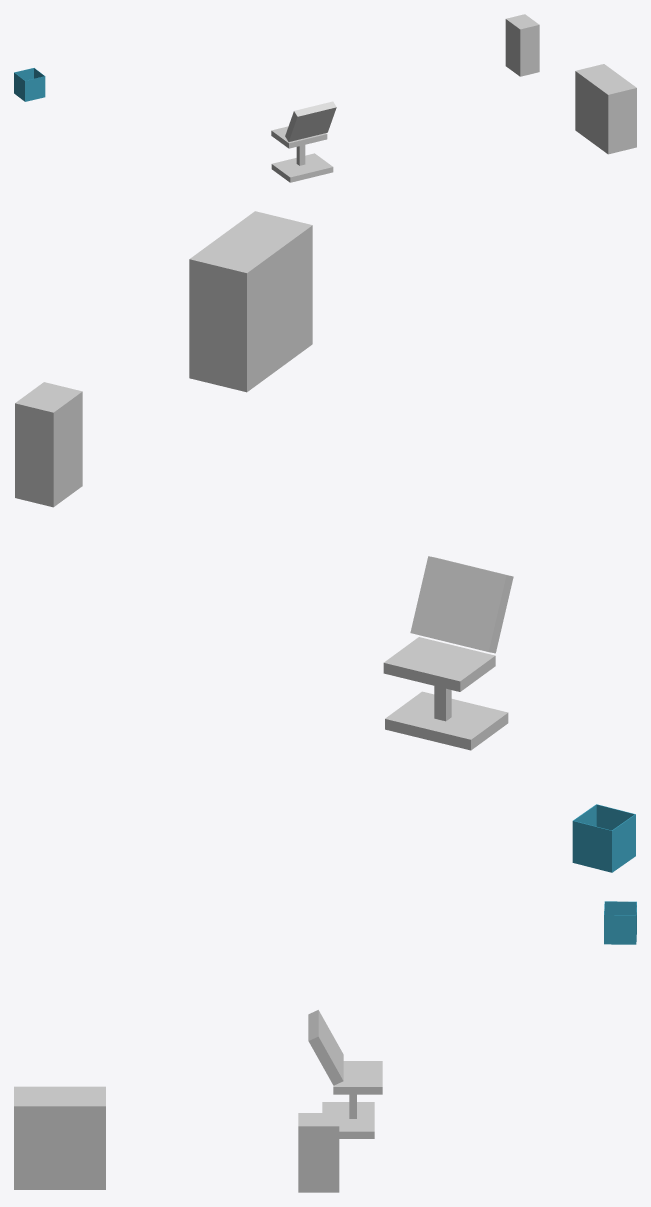
Rendered from bin_box.dae.
The picture shows the model from 3 angles, top to bottom: view 1: azimuth 30°, elevation 25°; view 2: azimuth 150°, elevation 25°; view 3: azimuth 270°, elevation 25°; orthographic projection. The views are drawn at different scales.
Visible parts, largest first — view 1: IKEAShelf_bb, BoxStand_bb, RollingChair_bb_1, RollingChair_bb_4, BlueToyTrashbin_mesh, RollingChair_bb_2; view 2: IKEAShelf_bb, BoxStand_bb, RollingChair_bb_1, RollingChair_bb_4, RollingChair_bb_2, BlueToyTrashbin_mesh; view 3: IKEAShelf_bb, BoxStand_bb, RollingChair_bb_1, RollingChair_bb_2, BlueToyTrashbin_mesh, RollingChair_bb_4.
Part boxes in pixels (bbox=[...]): IKEAShelf_bb: bbox=[575, 64, 636, 154]; BoxStand_bb: bbox=[505, 14, 539, 76]; RollingChair_bb_1: bbox=[285, 101, 336, 141]; RollingChair_bb_4: bbox=[271, 153, 333, 182]; BlueToyTrashbin_mesh: bbox=[14, 68, 45, 101]; RollingChair_bb_2: bbox=[271, 126, 327, 148]; IKEAShelf_bb: bbox=[189, 211, 312, 392]; BoxStand_bb: bbox=[15, 382, 82, 507]; RollingChair_bb_1: bbox=[410, 556, 513, 653]; RollingChair_bb_4: bbox=[385, 691, 508, 750]; RollingChair_bb_2: bbox=[383, 637, 495, 691]; BlueToyTrashbin_mesh: bbox=[572, 804, 635, 872]; IKEAShelf_bb: bbox=[14, 1086, 105, 1189]; BoxStand_bb: bbox=[298, 1113, 339, 1192]; RollingChair_bb_1: bbox=[308, 1010, 343, 1085]; RollingChair_bb_2: bbox=[333, 1061, 382, 1094]; BlueToyTrashbin_mesh: bbox=[604, 901, 636, 944]; RollingChair_bb_4: bbox=[322, 1102, 374, 1138].
Size of the model in its own units: 5.61 by 5.33 by 1.56.
